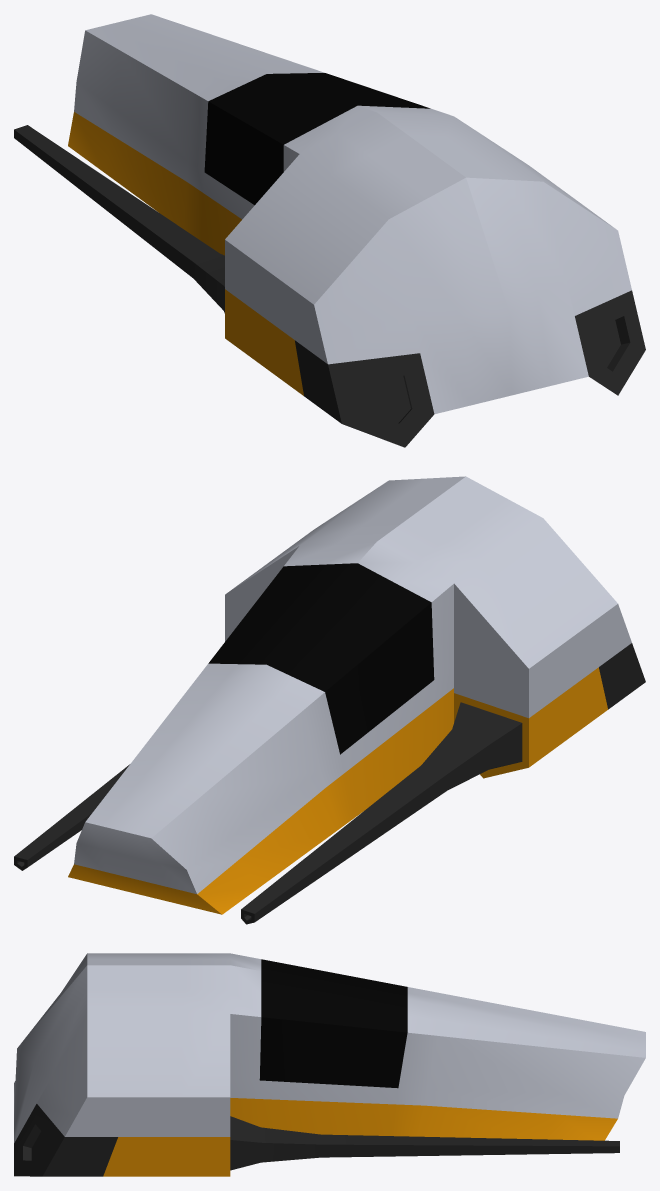
Rendered from WO Ship.fbx.
3 renders of one model, top to bottom at view 1: azimuth 30°, elevation 25°; view 2: azimuth 150°, elevation 25°; view 3: azimuth 270°, elevation 25°, orthographic. The views are drawn at different scales.
Parts seen in each view (by area): view 1: Cube; view 2: Cube; view 3: Cube.
Part boxes in pixels (x1,y1,x2,y2): Cube: (14, 14, 645, 447); Cube: (14, 476, 645, 924); Cube: (14, 953, 645, 1176).
Size of the model in its own units: 197 by 130 by 441.
